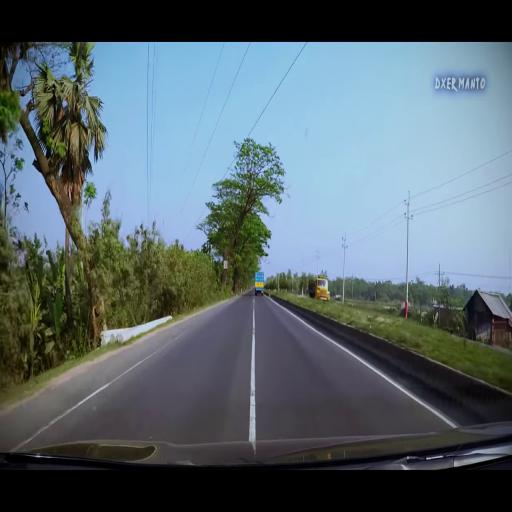truck: (308, 275, 331, 302), (254, 270, 266, 299)
